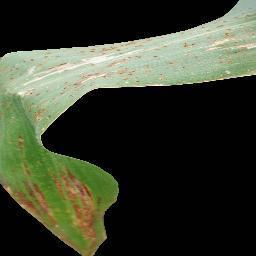Corn_Common_Rust: (0, 93, 120, 256), (0, 40, 256, 94), (141, 1, 256, 40)
